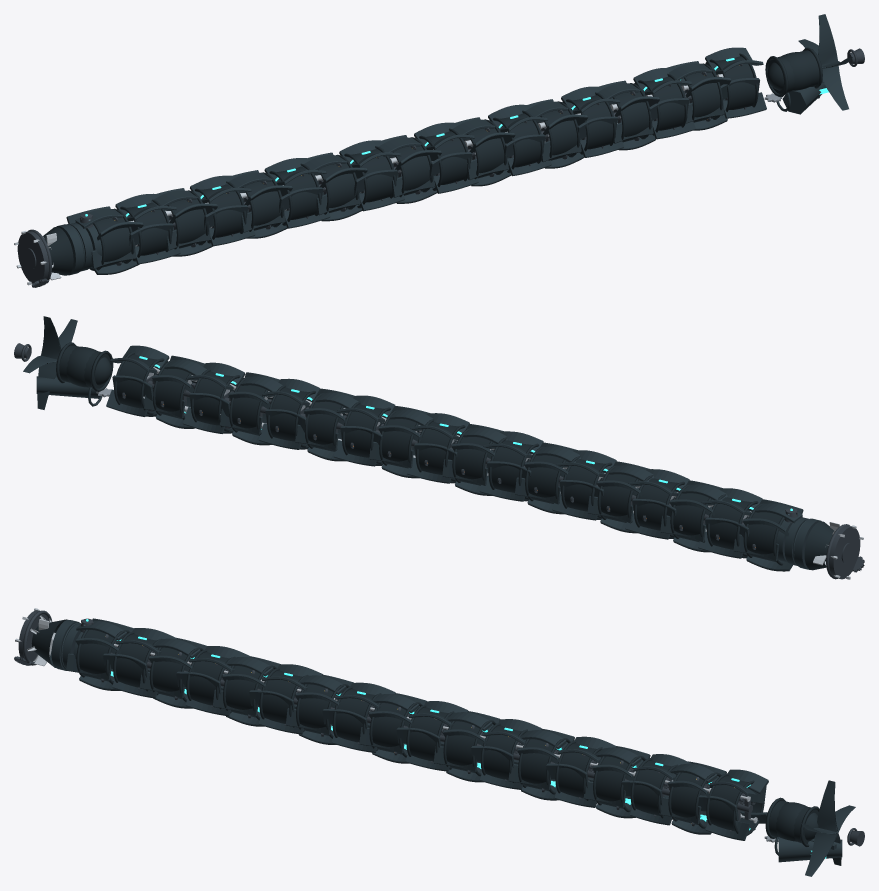
Rendered from abyss-salvager-ac-vii.glb.
The picture shows the model from 3 angles, top to bottom: view 1: azimuth 30°, elevation 25°; view 2: azimuth 150°, elevation 25°; view 3: azimuth 330°, elevation 25°; orthographic projection.
Visible parts, largest first — view 1: tail, head, segment-0, segment-17, segment-3, segment-5, segment-7, segment-1, segment-9, segment-11, segment-6, segment-4 (+8 smaller); view 2: tail, head, segment-17, segment-15, segment-13, segment-11, segment-0, segment-1, segment-9, segment-3, segment-7, segment-5 (+8 smaller); view 3: tail, segment-17, head, segment-16, segment-14, segment-12, segment-0, segment-10, segment-8, segment-13, segment-9, segment-15 (+8 smaller).
Boxes of the visible parts, x1=… form: tail: x1=764, y1=14, x2=864, y2=114; head: x1=14, y1=213, x2=102, y2=287; segment-0: x1=66, y1=206, x2=143, y2=274; segment-17: x1=705, y1=47, x2=766, y2=118; segment-3: x1=190, y1=175, x2=255, y2=246; segment-5: x1=264, y1=158, x2=330, y2=228; segment-7: x1=339, y1=140, x2=404, y2=211; segment-1: x1=115, y1=193, x2=180, y2=264; segment-9: x1=414, y1=122, x2=478, y2=193; segment-11: x1=488, y1=104, x2=551, y2=176; segment-6: x1=300, y1=152, x2=367, y2=221; segment-4: x1=225, y1=170, x2=292, y2=238; tail: x1=14, y1=316, x2=113, y2=409; head: x1=776, y1=508, x2=864, y2=579; segment-17: x1=106, y1=345, x2=169, y2=416; segment-15: x1=183, y1=362, x2=245, y2=433; segment-13: x1=258, y1=378, x2=320, y2=449; segment-11: x1=333, y1=395, x2=395, y2=466; segment-0: x1=733, y1=499, x2=803, y2=571; segment-1: x1=698, y1=488, x2=762, y2=558; segment-9: x1=407, y1=413, x2=469, y2=483; segment-3: x1=625, y1=469, x2=689, y2=539; segment-7: x1=479, y1=431, x2=543, y2=501; segment-5: x1=552, y1=450, x2=616, y2=520; tail: x1=764, y1=780, x2=864, y2=876; segment-17: x1=698, y1=769, x2=768, y2=840; head: x1=14, y1=608, x2=93, y2=670; segment-16: x1=659, y1=761, x2=726, y2=834; segment-14: x1=583, y1=746, x2=650, y2=818; segment-12: x1=508, y1=728, x2=574, y2=800; segment-0: x1=66, y1=618, x2=133, y2=690; segment-10: x1=433, y1=711, x2=500, y2=782; segment-8: x1=359, y1=693, x2=426, y2=763; segment-13: x1=546, y1=736, x2=616, y2=807; segment-9: x1=396, y1=701, x2=468, y2=771; segment-15: x1=621, y1=754, x2=691, y2=825.
Bounding box in the file's own units: 22.68 × 2.29 × 2.26.
